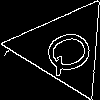Q: (39, 23, 100, 79)
